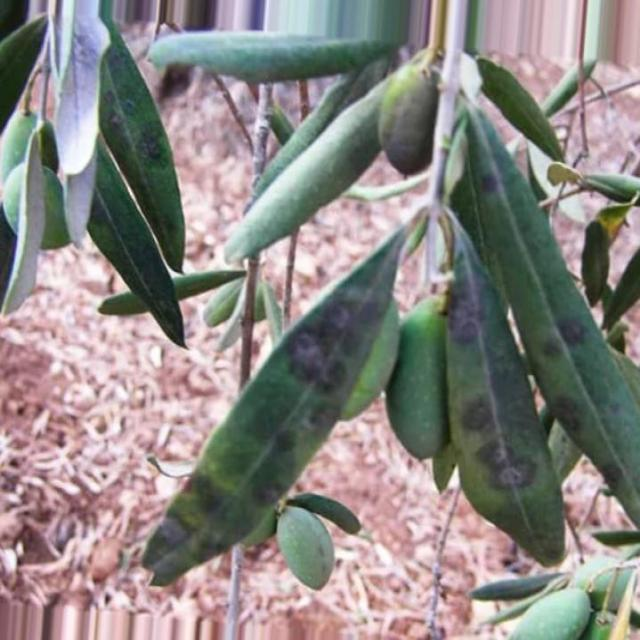OlivePeacockSpot: (142, 220, 412, 584), (471, 115, 639, 515), (448, 229, 564, 563), (100, 21, 184, 246)
